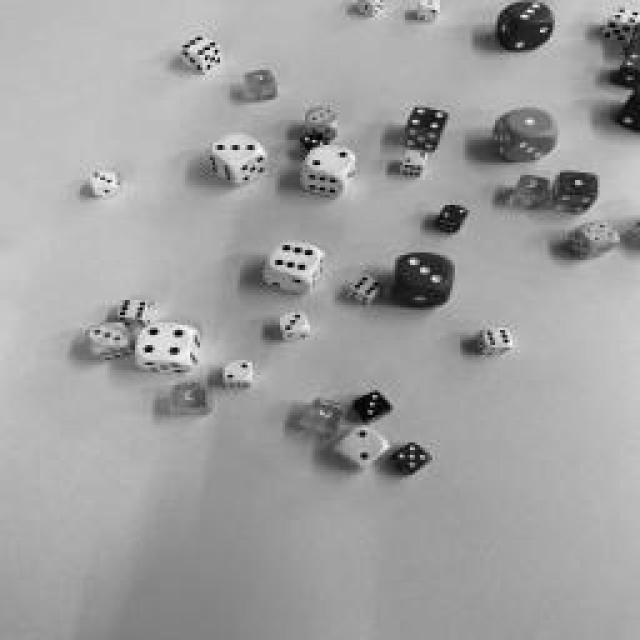dice_1: (508, 110, 552, 135), (560, 170, 598, 195), (420, 0, 440, 8)
dice_2: (335, 428, 390, 468), (310, 146, 350, 172), (224, 360, 251, 380), (442, 202, 468, 222), (402, 150, 428, 165)
dice_3: (398, 252, 452, 288), (212, 135, 258, 165), (305, 400, 345, 430), (87, 322, 125, 348), (355, 392, 390, 420), (172, 382, 206, 408), (509, 2, 551, 22), (280, 312, 305, 332), (245, 72, 275, 88), (308, 108, 338, 122), (301, 135, 329, 150), (93, 170, 115, 185)
dice_4: (138, 325, 188, 360), (408, 108, 448, 132), (582, 222, 618, 242), (611, 8, 639, 22)
dice_5: (390, 442, 430, 472), (518, 175, 548, 195)
dice_6: (270, 242, 320, 272), (181, 35, 219, 55), (351, 276, 381, 296), (118, 300, 148, 320), (484, 329, 511, 346)
